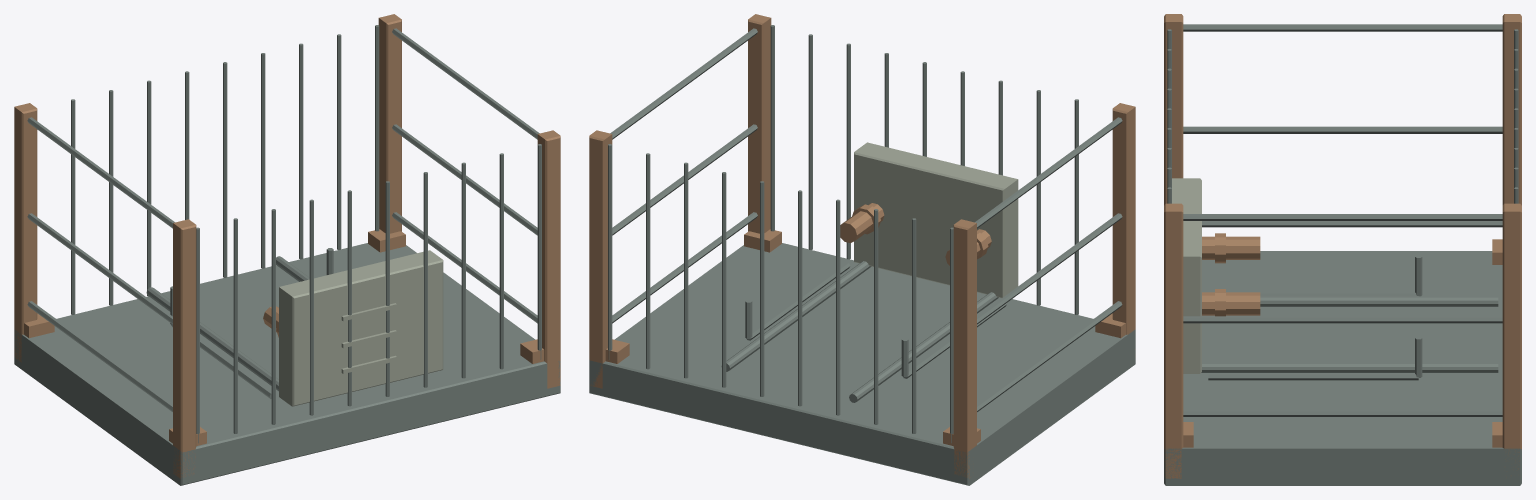
File: PusherFrame.fbx
3 renders of one model, left to right at view 1: azimuth 30°, elevation 25°; view 2: azimuth 150°, elevation 25°; view 3: azimuth 270°, elevation 25°, orthographic. The views are drawn at different scales.
Visible parts, largest first — view 1: Base__Steel, GuardBars__Steel, GuardPosts__Rust, Drive__WornSteel, LoadRails__Steel; view 2: Base__Steel, GuardBars__Steel, GuardPosts__Rust, Drive__WornSteel, LoadRails__Steel, Cylinders__Rust; view 3: Base__Steel, GuardPosts__Rust, GuardBars__Steel, LoadRails__Steel, Drive__WornSteel, Cylinders__Rust.
Boxes of the visible parts, box(x1,y1,x2,y2) form: Base__Steel: box(14, 243, 560, 485); GuardBars__Steel: box(27, 25, 541, 443); GuardPosts__Rust: box(14, 14, 560, 478); Drive__WornSteel: box(279, 250, 443, 406); LoadRails__Steel: box(146, 248, 333, 398); Base__Steel: box(589, 243, 1135, 485); GuardBars__Steel: box(608, 25, 1122, 443); GuardPosts__Rust: box(589, 14, 1135, 478); Drive__WornSteel: box(854, 142, 1018, 297); LoadRails__Steel: box(721, 261, 1006, 402); Cylinders__Rust: box(840, 203, 991, 265); Base__Steel: box(1164, 251, 1521, 485); GuardPosts__Rust: box(1164, 14, 1521, 478); GuardBars__Steel: box(1167, 24, 1518, 416); LoadRails__Steel: box(1201, 255, 1498, 380); Drive__WornSteel: box(1172, 178, 1201, 373); Cylinders__Rust: box(1202, 233, 1260, 316).
Size of what is drawn, in the model's own units: 3.4 by 2.2 by 2.6.
